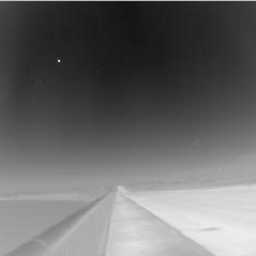Target: (56, 59, 61, 63)
